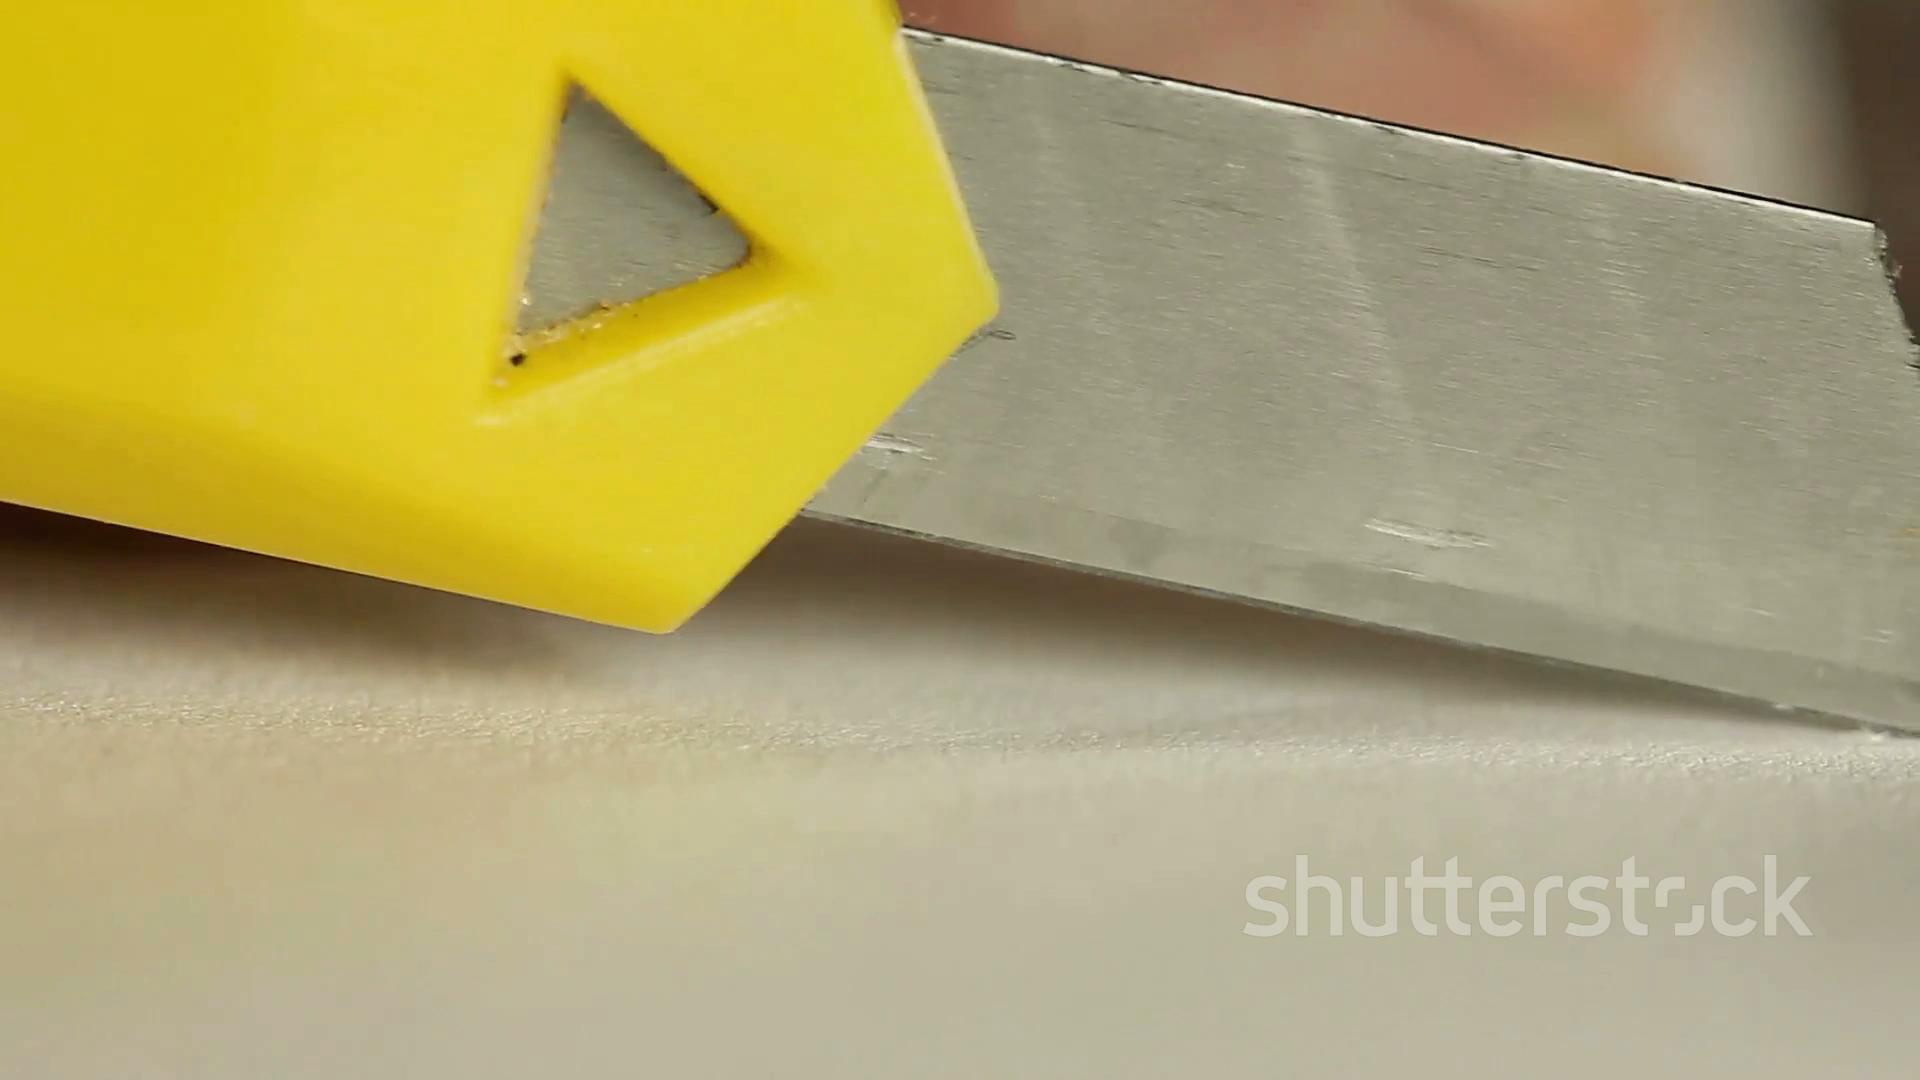cortante: (790, 22, 1920, 736)
